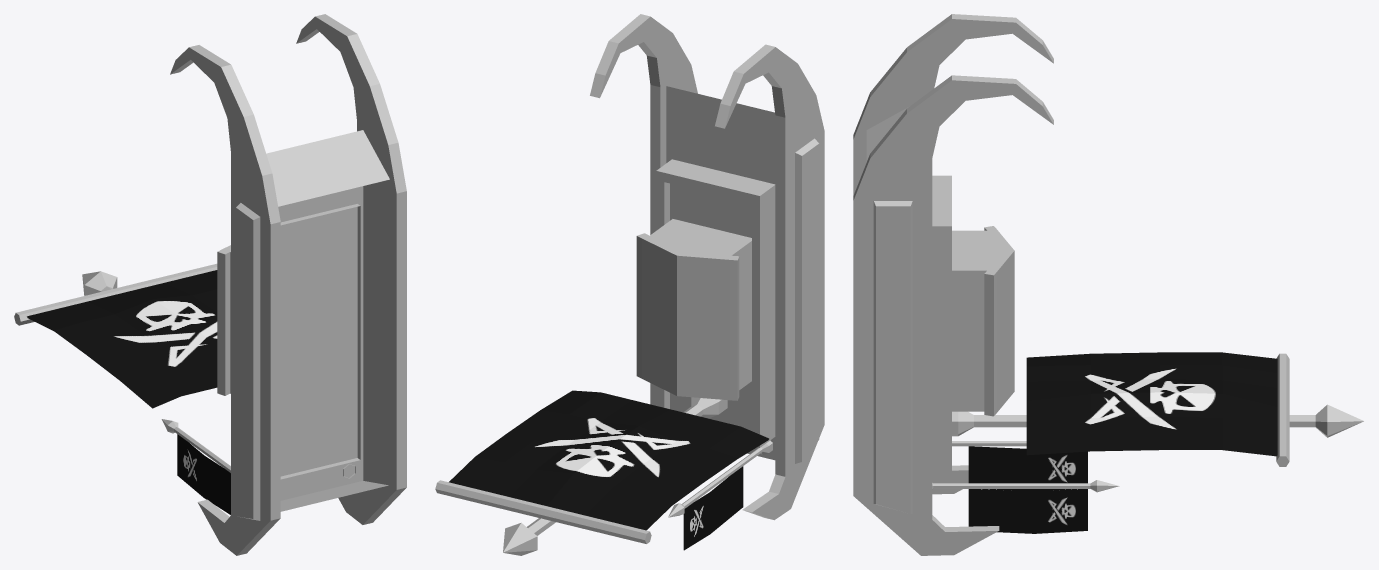
The model's file is skin_0.fbx.
The picture shows the model from 3 angles, left to right: view 1: azimuth 30°, elevation 25°; view 2: azimuth 150°, elevation 25°; view 3: azimuth 270°, elevation 25°; orthographic projection.
Visible parts, largest first — view 1: Cube.629; view 2: Cube.629; view 3: Cube.629.
Boxes of the visible parts, x1,y1,x2,y2 form: Cube.629: (14, 14, 406, 555); Cube.629: (435, 14, 824, 555); Cube.629: (853, 14, 1363, 555).
Bounding box in the file's own units: 429 × 925 × 901.
